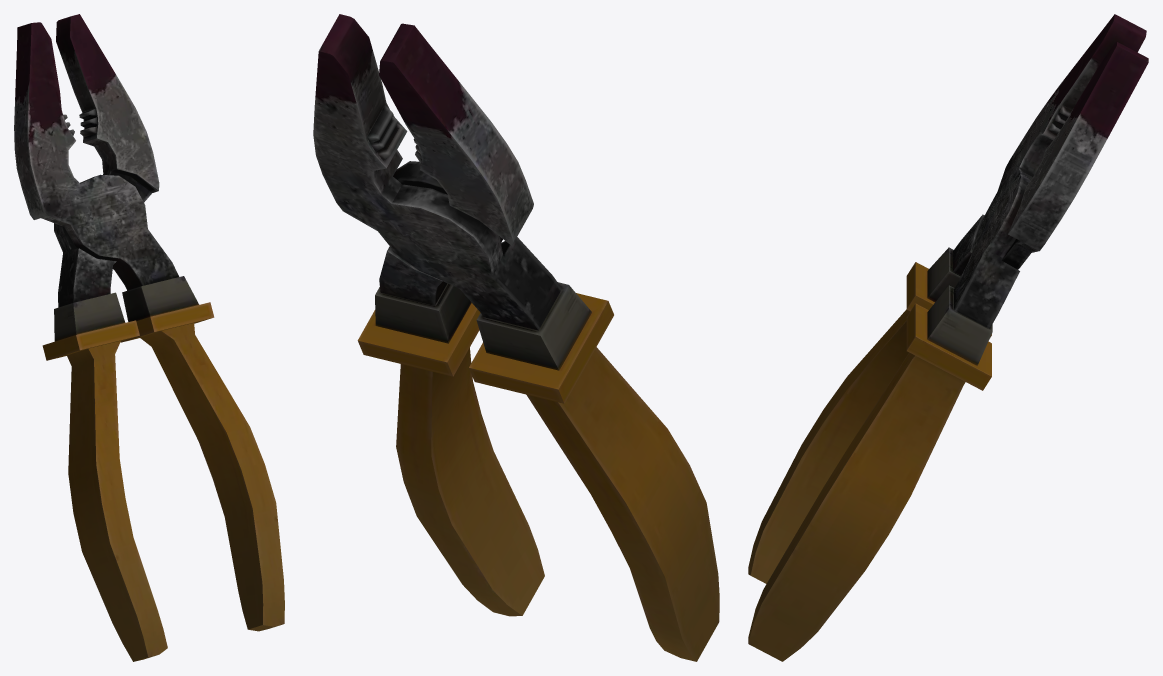
Rendered from pliers.glb.
The picture shows the model from 3 angles, left to right: view 1: azimuth 30°, elevation 25°; view 2: azimuth 150°, elevation 25°; view 3: azimuth 270°, elevation 25°; orthographic projection. The views are drawn at different scales.
Parts seen in each view (by area): view 1: pliers; view 2: pliers; view 3: pliers.
Boxes of the visible parts, box(x1,y1,x2,y2) form: pliers: box(14, 14, 284, 661); pliers: box(313, 14, 719, 661); pliers: box(748, 14, 1148, 661).
Size of the model in its own units: 0.7777 by 2.33 by 1.42.
1 material, 1 textured.
